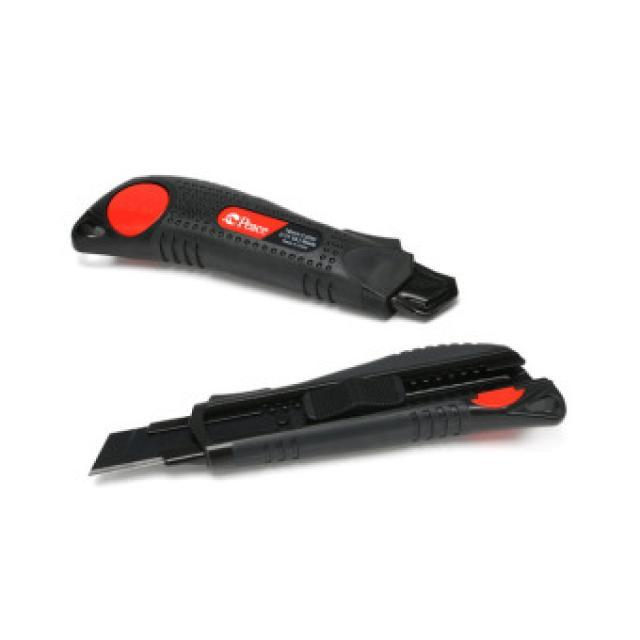cutter: (83, 341, 570, 488), (65, 166, 461, 326)
